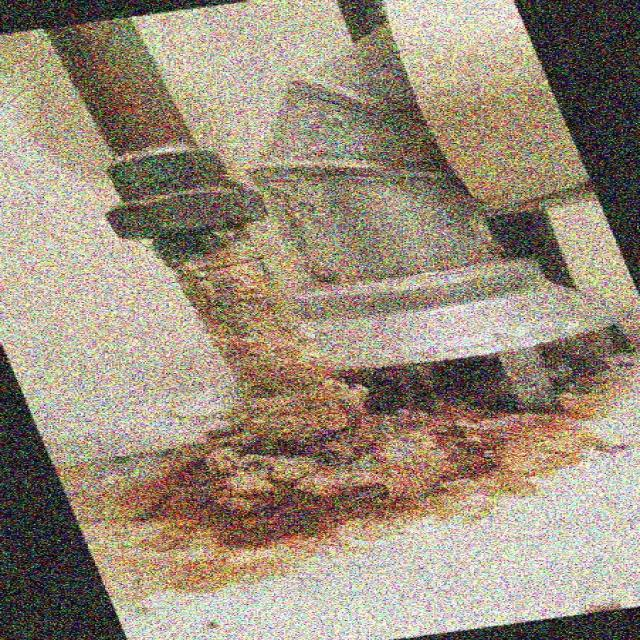rust: (142, 219, 379, 447)
